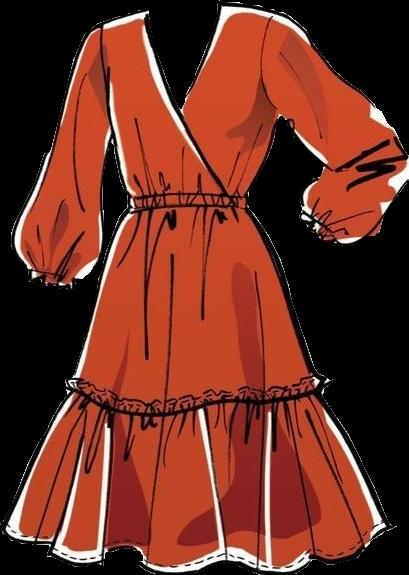Bodice: (99, 2, 277, 210)
Hemline: (0, 523, 391, 574)
Neckline: (142, 2, 225, 114), (126, 188, 248, 198)
Skirt: (1, 206, 395, 574)
Sleeve: (264, 13, 408, 243), (11, 24, 112, 287)
Sleeveline: (260, 10, 282, 121), (97, 21, 117, 132)
Waistline: (66, 385, 323, 420), (126, 203, 252, 214)
